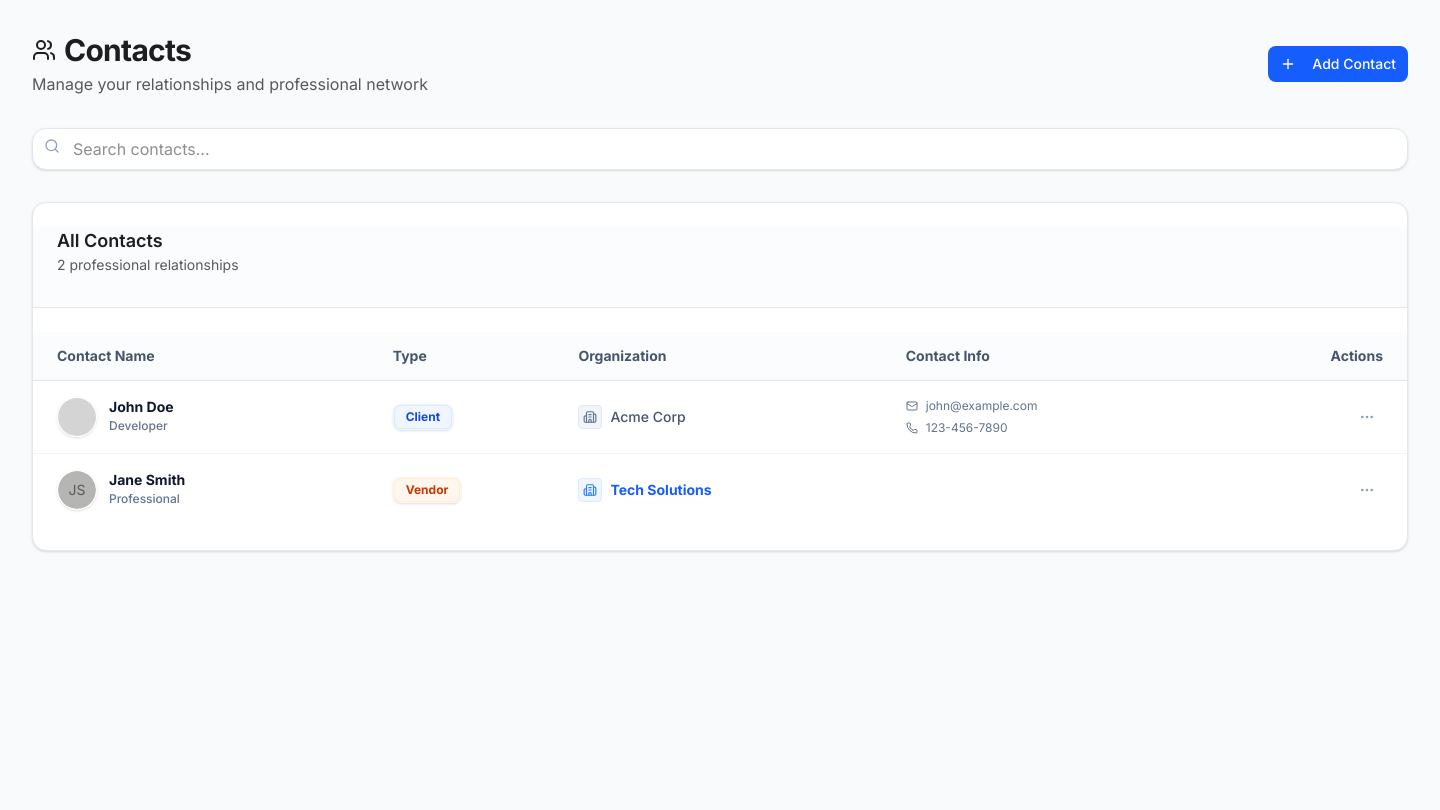
Test: ContactsClientPage › displays empty state when no contacts match search
The width and height of the screenshot is (1440, 810).
In the field with placeholder "Search contacts...": (720, 149) [32,128,1408,170], type "NonexistentContact"
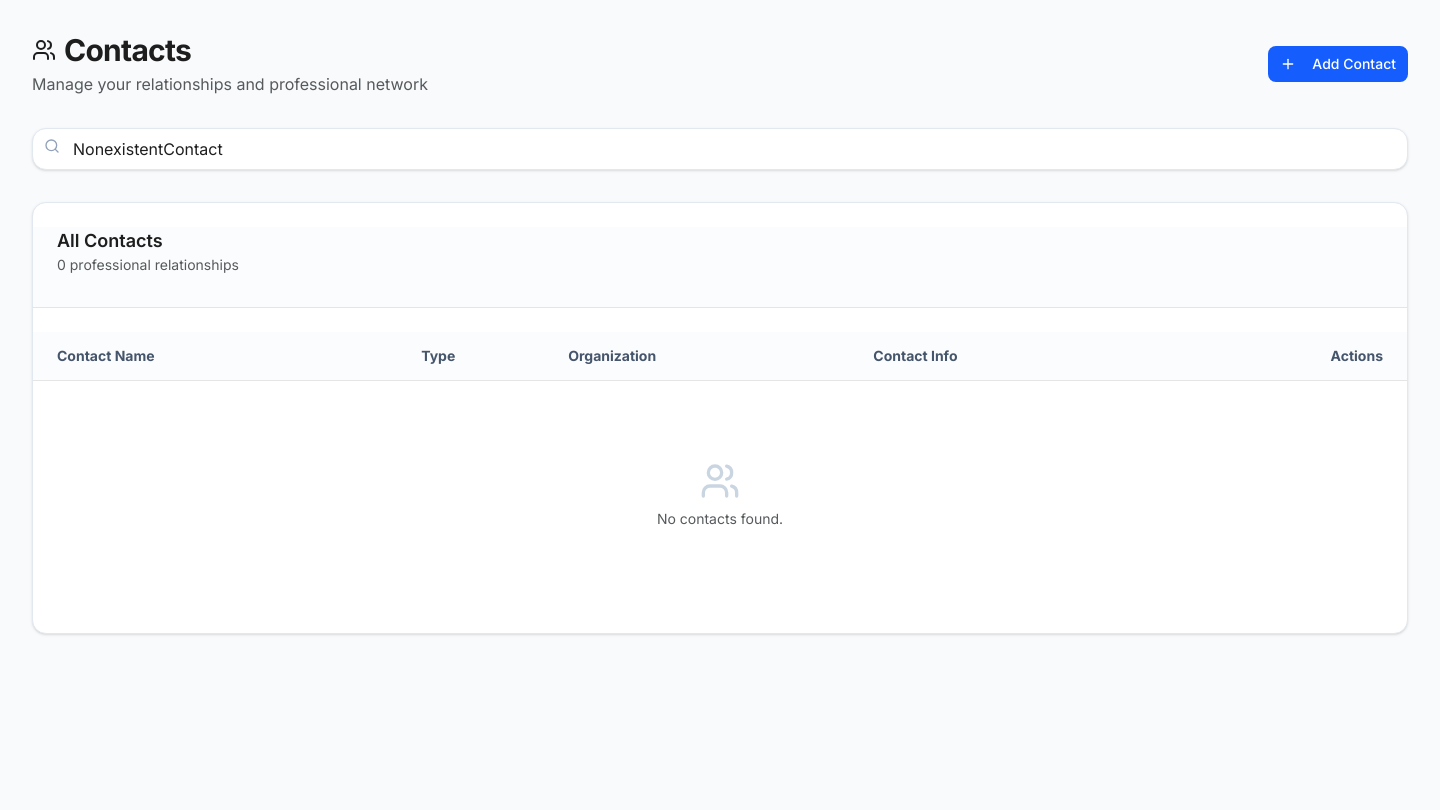
Check: the text "No contacts found." is shown, box [657,508,783,528]
